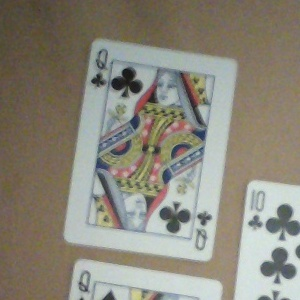card: (62, 37, 237, 263)
